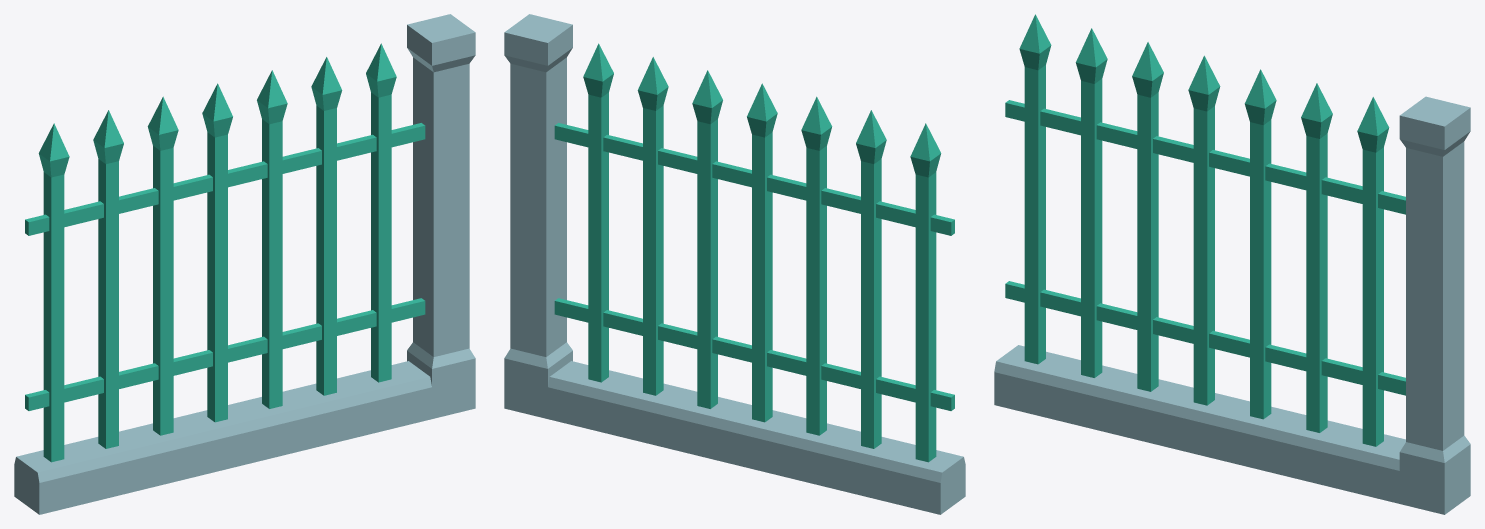
Rendered from ironFenceBorderColumn.obj.
3 renders of one model, left to right at view 1: azimuth 30°, elevation 25°; view 2: azimuth 150°, elevation 25°; view 3: azimuth 330°, elevation 25°, orthographic. The views are drawn at different scales.
Visible parts, largest first — view 1: ironFenceBorderColumn; view 2: ironFenceBorderColumn; view 3: ironFenceBorderColumn.
Part boxes in pixels (x1,y1,x2,y2): ironFenceBorderColumn: (14, 14, 475, 514); ironFenceBorderColumn: (504, 14, 965, 514); ironFenceBorderColumn: (994, 14, 1470, 514).
Size of the model in its own units: 1 by 0.8239 by 0.1.
